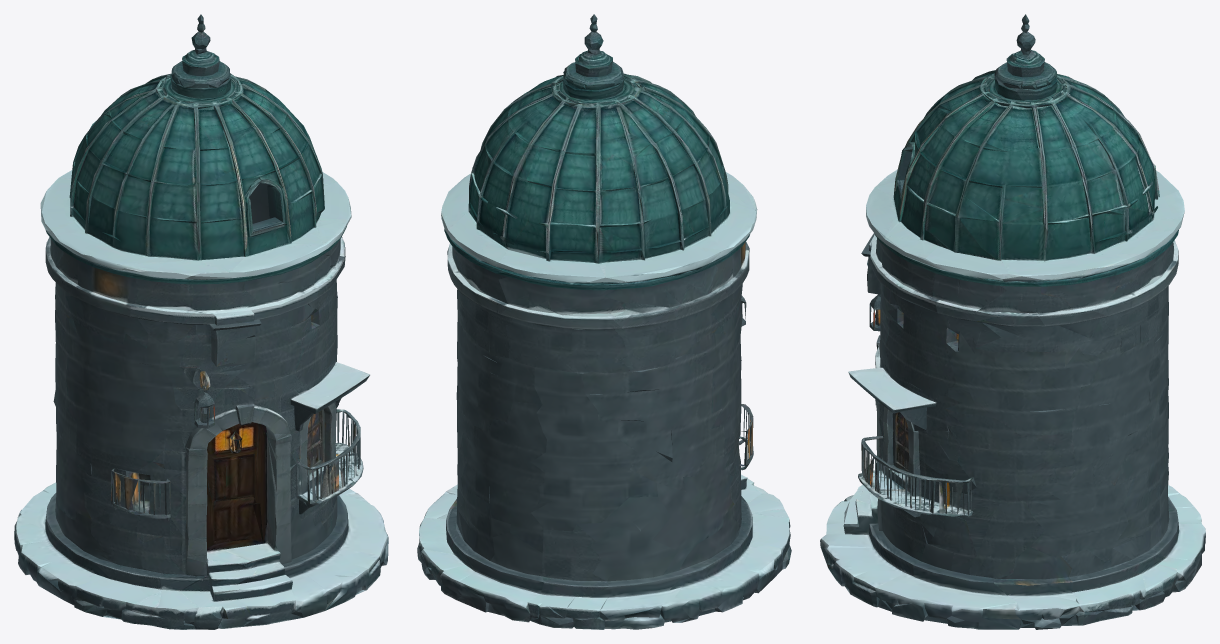
Rendered from observatory.glb.
The picture shows the model from 3 angles, left to right: view 1: azimuth 30°, elevation 25°; view 2: azimuth 150°, elevation 25°; view 3: azimuth 270°, elevation 25°; orthographic projection.
Size of the model in its own units: 1.19 by 1.9 by 1.23.
Materials: 1 (1 with a texture image).
